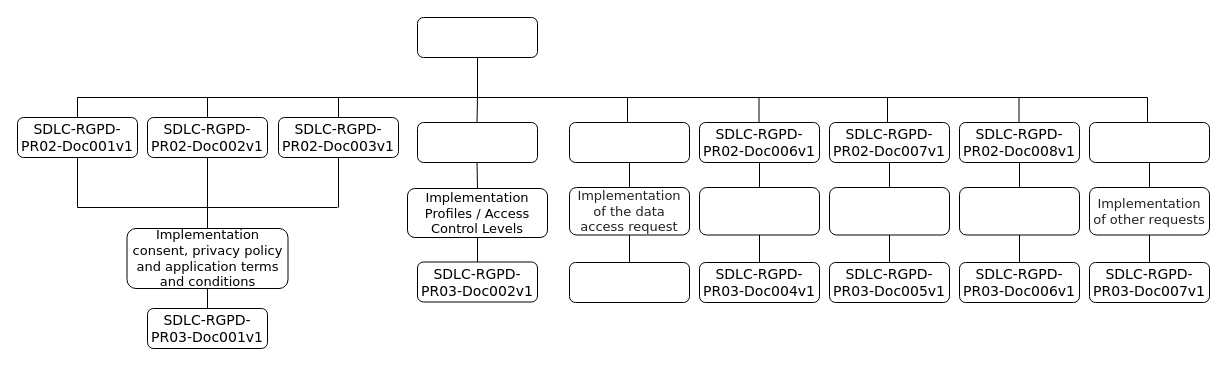
Image size: 1227x366. Some labels were removed from this diagram. Each missing label, with the centre of its shape:
Development: the point at 477,37
Implementation of the oblivion request: the point at 889,210
Implementation of the portability request: the point at 759,210
SDLC-RGPD-PR02-Doc004v1: the point at 477,142
SDLC-RGPD-PR02-Doc005v1: the point at 629,142
SDLC-RGPD-PR02-Doc009v1: the point at 1149,142
SDLC-RGPD-PR03-Doc003v1: the point at 629,282
Update request implementation: the point at 1019,210
